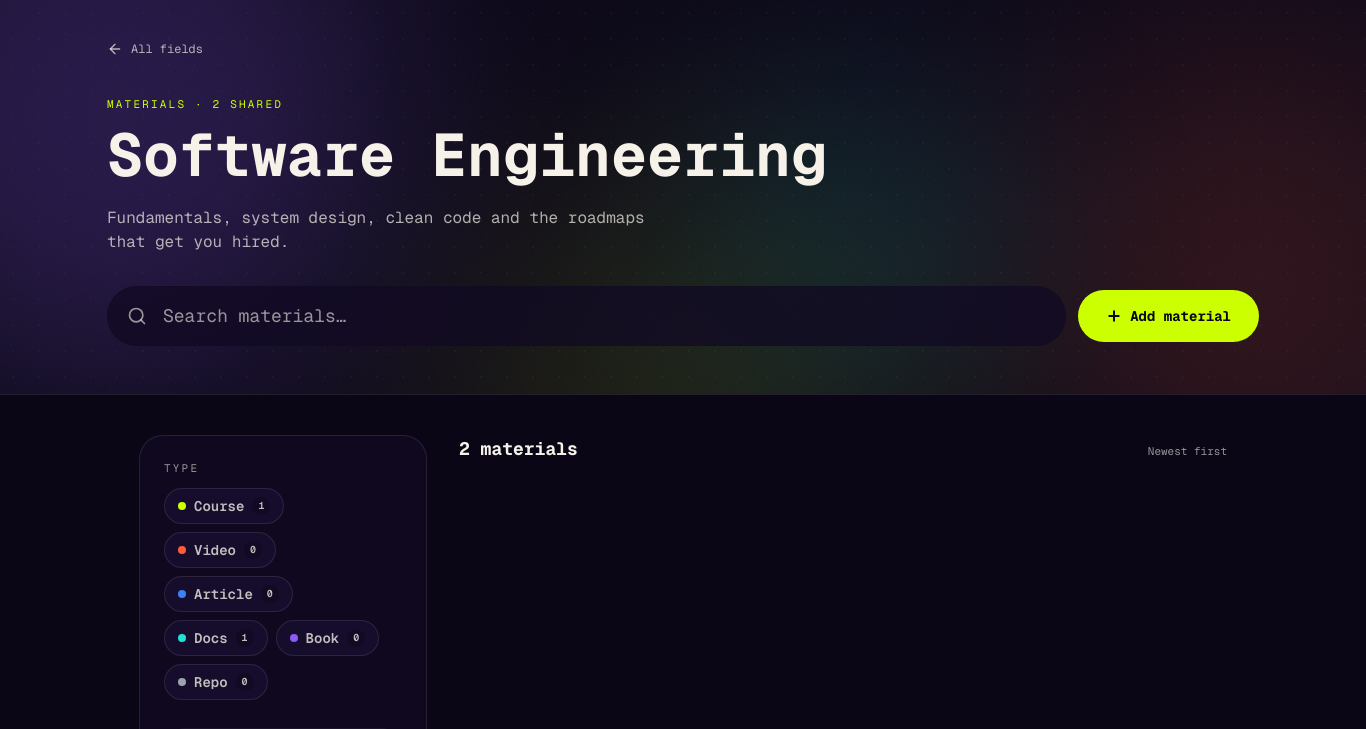
it: FieldClient › empty states › shows the no-match state when filters hide everything
The width and height of the screenshot is (1366, 729).
Expected: the text "2 materials" is shown, [459,435,578,463]
Click the button "Book 0". click: (327, 638)
box: [276,620,379,656]
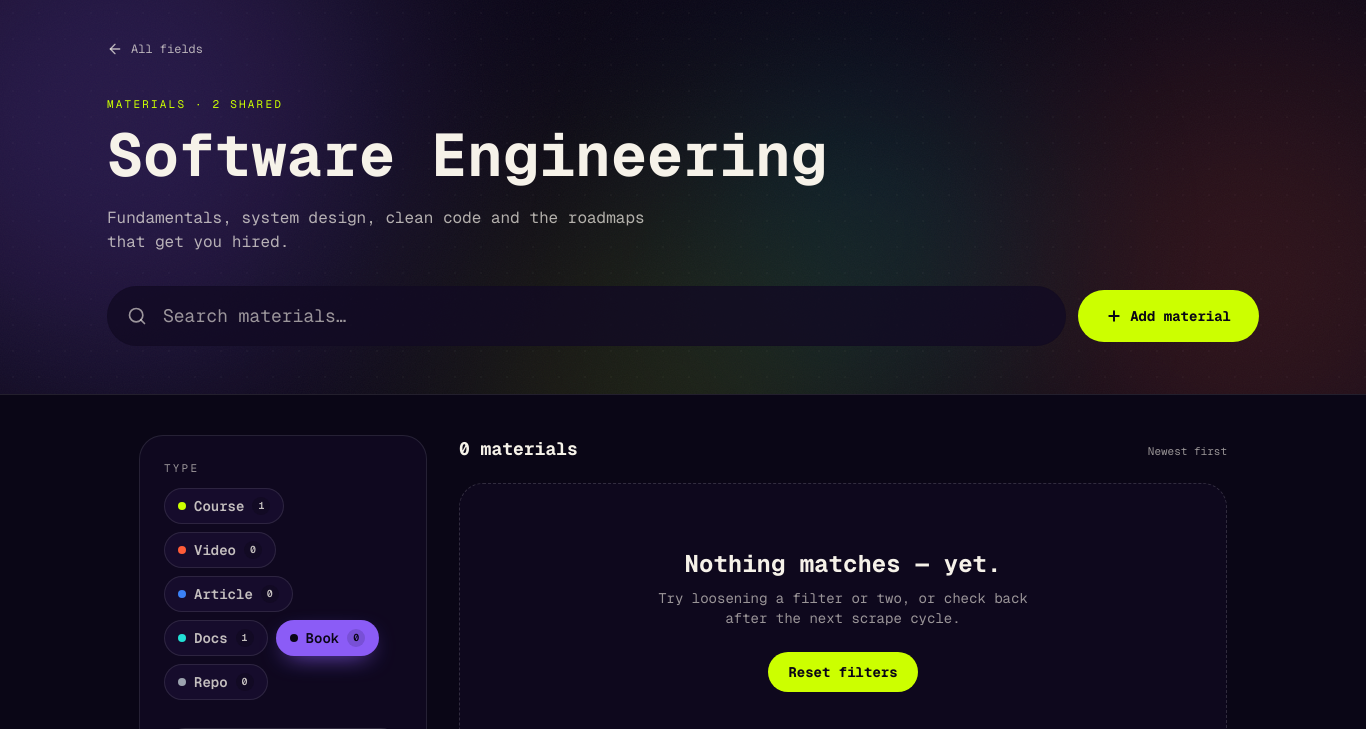
Now the text "Nothing matches — yet." is shown, box [685,548,1001,579]
